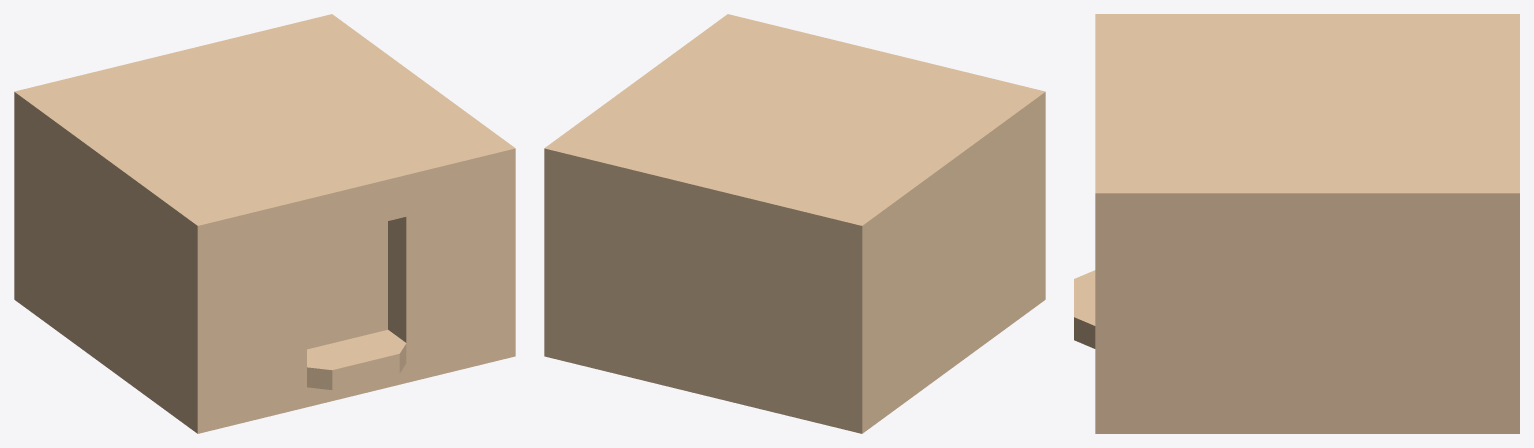
Rendered from building-window-sill.obj.
3 renders of one model, left to right at view 1: azimuth 30°, elevation 25°; view 2: azimuth 150°, elevation 25°; view 3: azimuth 270°, elevation 25°, orthographic. The views are drawn at different scales.
Size of the model in its own units: 1 by 0.625 by 1.05.
